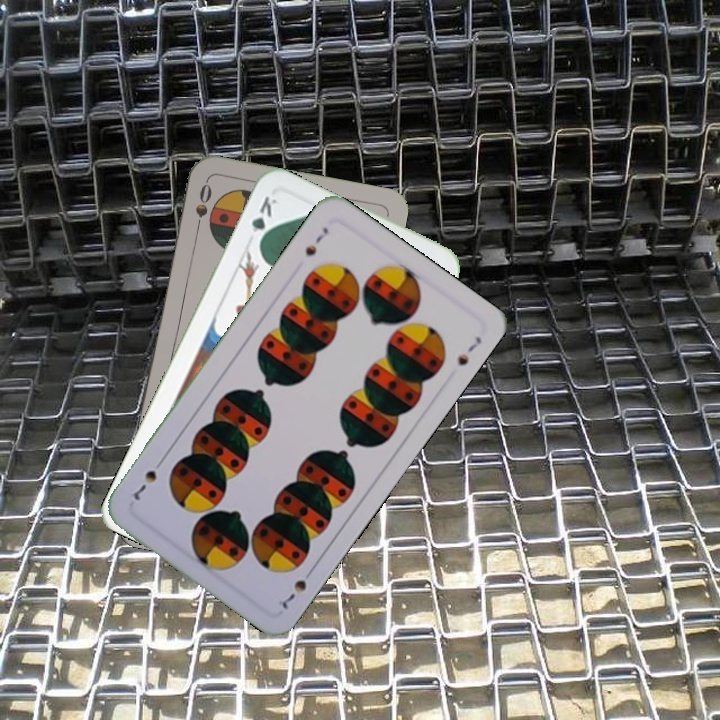GK: (246, 191, 280, 249)
S7: (277, 563, 317, 613), (300, 223, 331, 259)
SO: (191, 179, 215, 237)
